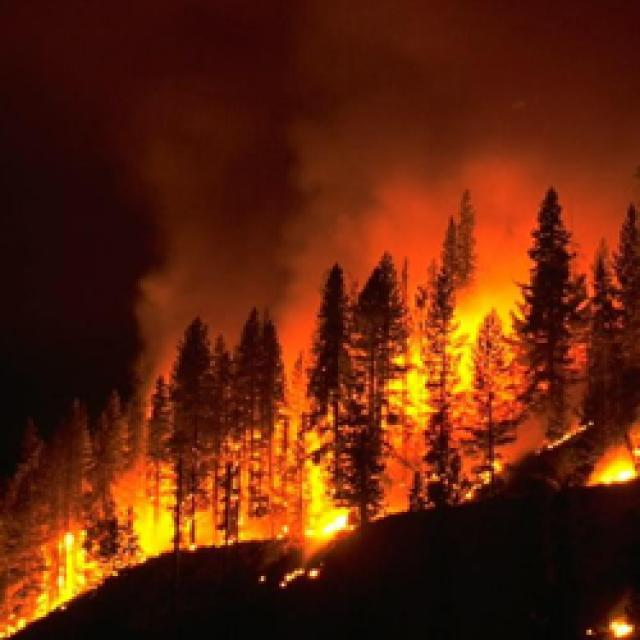Fire: (0, 421, 224, 618), (360, 200, 538, 438), (225, 314, 397, 546), (573, 412, 640, 536), (234, 541, 339, 589), (558, 593, 640, 639)
Smoke: (186, 0, 640, 289)
